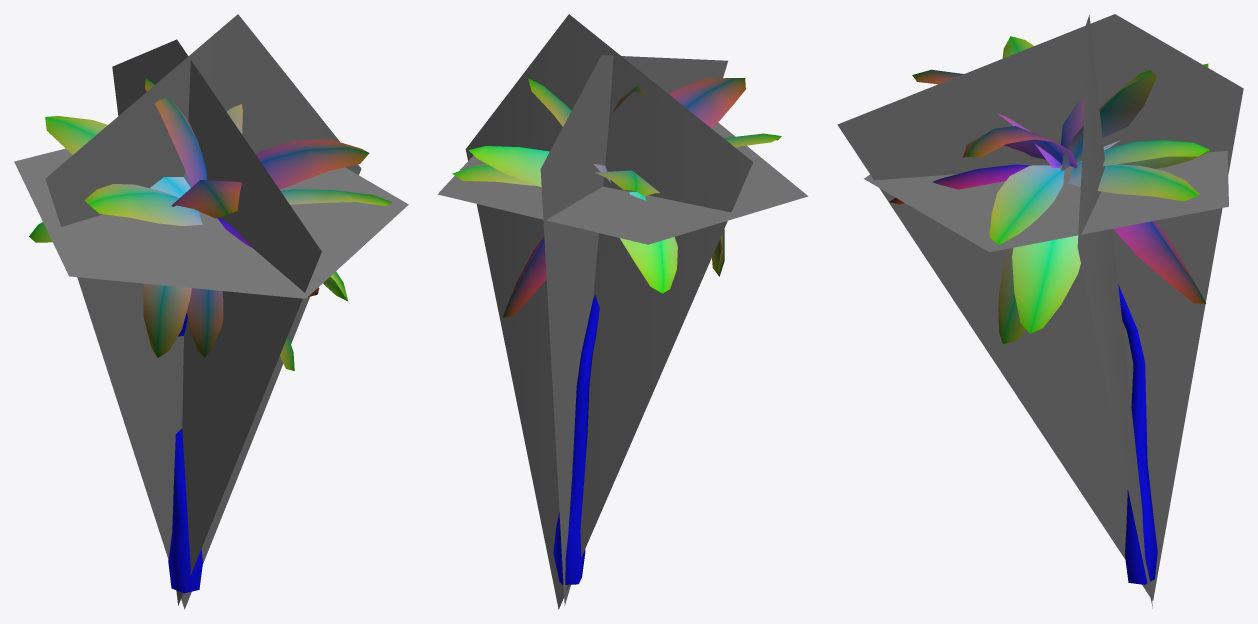
Rendered from PalmB_01.fbx.
3 views of the same model, side by side, from view 1: azimuth 30°, elevation 25°; view 2: azimuth 150°, elevation 25°; view 3: azimuth 270°, elevation 25° (orthographic). The views are drawn at different scales.
Visible parts, largest first — view 1: PalmB_01_billboard, PalmB_01; view 2: PalmB_01_billboard, PalmB_01; view 3: PalmB_01_billboard, PalmB_01.
Boxes of the visible parts, x1,y1,x2,y2 form: PalmB_01_billboard: (14,14,408,609); PalmB_01: (29,78,392,593); PalmB_01_billboard: (437,14,808,609); PalmB_01: (452,78,781,584); PalmB_01_billboard: (837,14,1243,608); PalmB_01: (889,36,1209,584).
Bounding box in the file's own units: 260 × 457 × 278.
